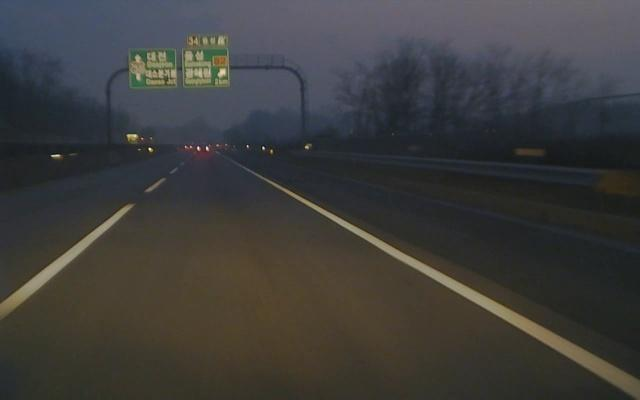lane: (232, 160, 640, 400), (0, 167, 181, 322)
